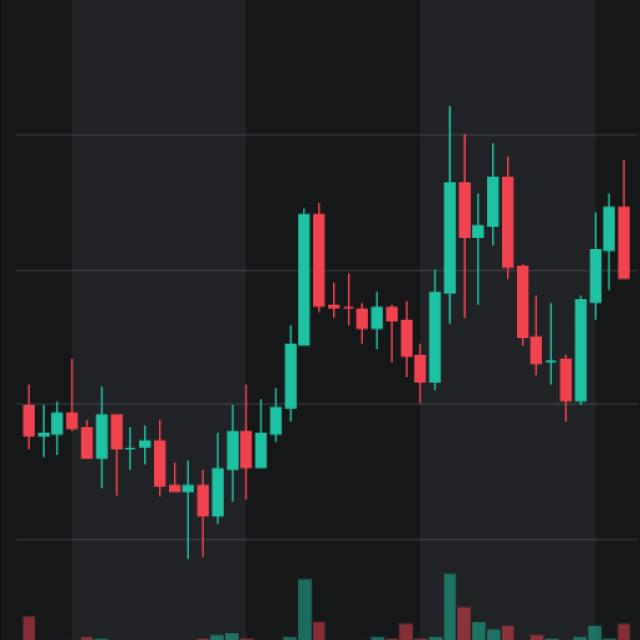Channel-up: (101, 35, 637, 614)
